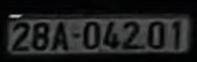-: (72, 32, 81, 38)
.: (141, 46, 145, 49)
0: (148, 21, 165, 49), (84, 22, 100, 49)
1: (172, 21, 181, 50)
2: (13, 22, 29, 51), (124, 21, 139, 49)
4: (104, 21, 120, 49)
8: (33, 23, 48, 51)
A: (52, 22, 68, 51)
